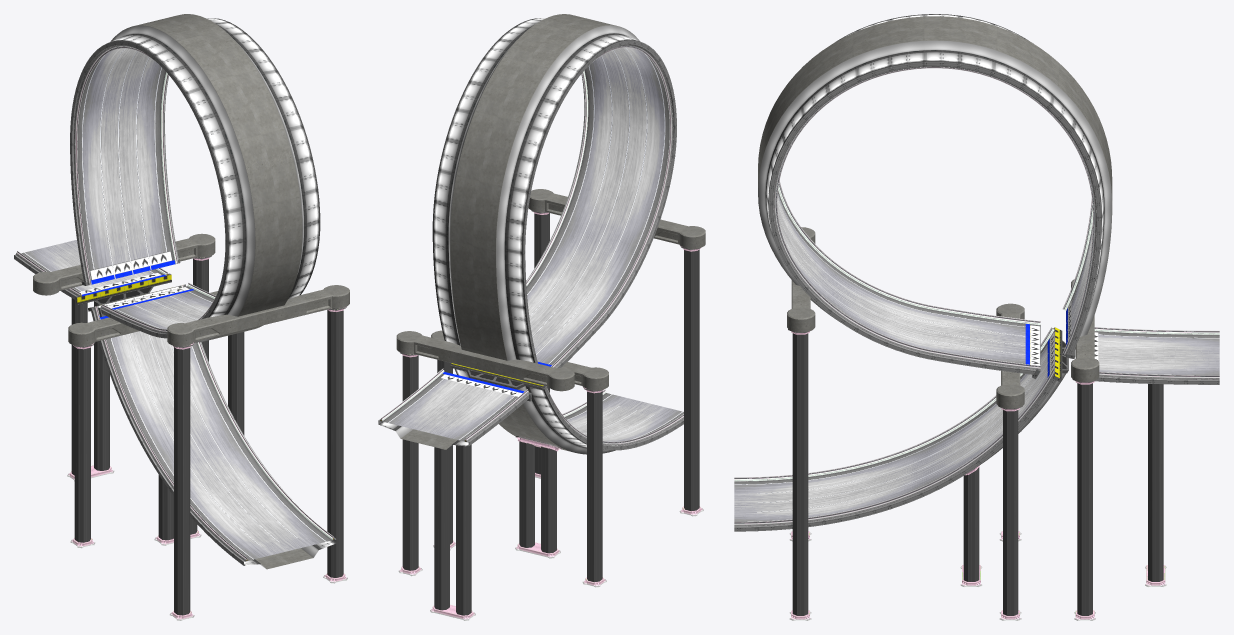
3 renders of one model, left to right at view 1: azimuth 30°, elevation 25°; view 2: azimuth 150°, elevation 25°; view 3: azimuth 270°, elevation 25°, orthographic. The views are drawn at different scales.
Visible parts, largest first — view 1: road, standard_bridge3, walls, support_pylon_2, support_pylon_1, support_beam__4_, support_pylon_4, support_pylon_5, lines, support_beam__3_, support_pylon_3, support_beam__5_ (+6 smaller); view 2: standard_bridge3, road, support_pylon_5, support_pylon_2, walls, support_beam__3_, support_pylon_6, support_pylon_4, support_pylon, support_beam__4_, lines, support_beam__5_ (+4 smaller); view 3: standard_bridge3, road, walls, support_pylon_1, support_pylon, support_pylon_3, support_pylon_5, support_pylon_6, lines, support_beam__5_, support_beam__4_, support_beam__3_.
Part boxes in pixels (box(x1,y1,x2,y2)): road: box(21, 47, 331, 560); standard_bridge3: box(14, 14, 336, 569); walls: box(15, 45, 334, 561); support_pylon_2: box(174, 347, 190, 615); support_pylon_1: box(327, 308, 343, 577); support_beam__4_: box(167, 285, 349, 346); support_pylon_4: box(74, 347, 90, 542); support_pylon_5: box(71, 298, 109, 475); lines: box(100, 48, 297, 546); support_beam__3_: box(33, 233, 215, 295); support_pylon_3: box(228, 332, 244, 435); support_beam__5_: box(68, 291, 217, 346); standard_bridge3: box(378, 14, 683, 454); road: box(382, 46, 683, 442); support_pylon_5: box(434, 444, 471, 615); support_pylon_2: box(684, 249, 699, 511); walls: box(380, 44, 683, 445); support_beam__3_: box(396, 331, 574, 391); support_pylon_6: box(519, 441, 556, 553); support_pylon_4: box(587, 391, 602, 582); support_pylon: box(402, 354, 418, 570); support_beam__4_: box(528, 189, 705, 249); lines: box(529, 47, 654, 437); support_beam__5_: box(431, 330, 608, 390); standard_bridge3: box(734, 14, 1219, 531); road: box(734, 189, 1219, 522); walls: box(734, 66, 1219, 526); support_pylon_1: box(792, 333, 808, 615); support_pylon: box(1077, 383, 1092, 615); support_pylon_3: box(1003, 410, 1018, 615); support_pylon_5: box(1148, 384, 1163, 581); support_pylon_6: box(963, 467, 979, 581); lines: box(757, 204, 1091, 512); support_beam__5_: box(996, 303, 1024, 408); support_beam__4_: box(787, 227, 815, 332); support_beam__3_: box(1071, 279, 1099, 382).
Size of the model in its own units: 8651 by 23933 by 19201.
